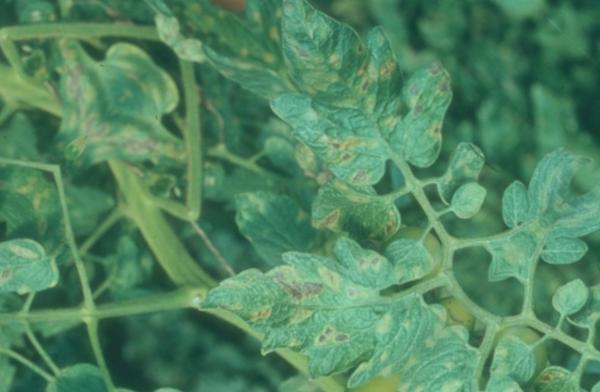Tomato mold leaf: (184, 161, 472, 392), (208, 0, 487, 222), (0, 212, 75, 334), (436, 168, 496, 229), (122, 362, 222, 392)
